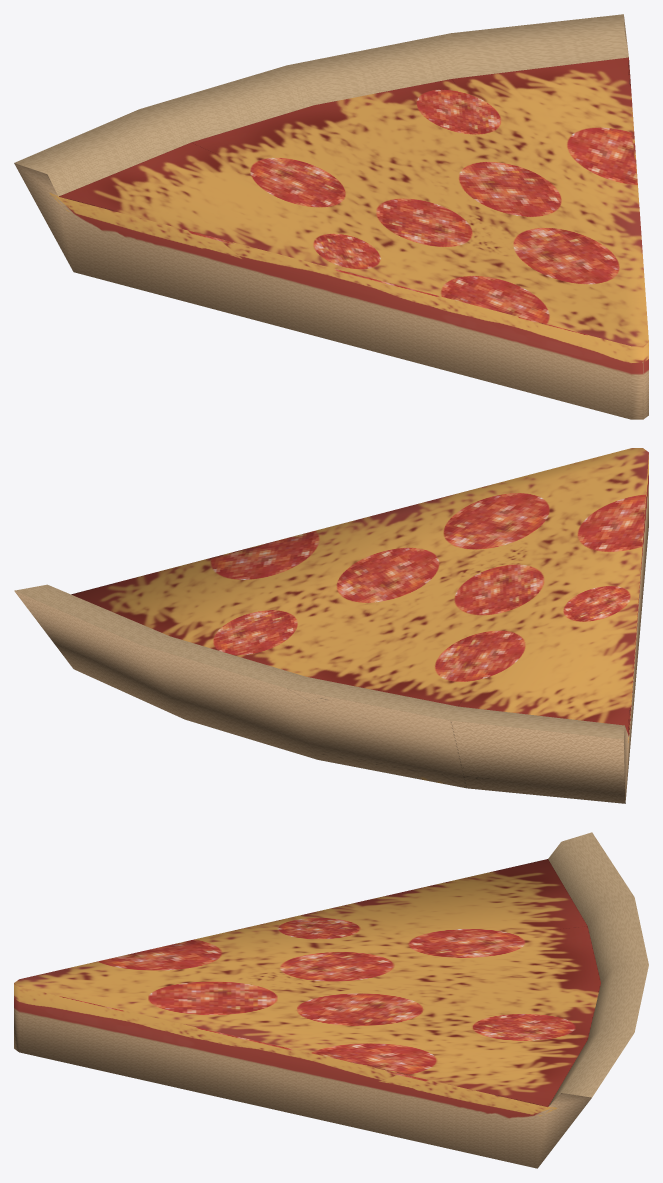
Rendered from WorldItem_PizzaNdujaSlice.fbx.
3 renders of one model, top to bottom at view 1: azimuth 30°, elevation 25°; view 2: azimuth 150°, elevation 25°; view 3: azimuth 270°, elevation 25°, orthographic. The views are drawn at different scales.
Visible parts, largest first — view 1: Pie_Lemonmeringue001; view 2: Pie_Lemonmeringue001; view 3: Pie_Lemonmeringue001.
Part boxes in pixels (bbox=[...]): Pie_Lemonmeringue001: bbox=[14, 14, 648, 419]; Pie_Lemonmeringue001: bbox=[14, 448, 648, 803]; Pie_Lemonmeringue001: bbox=[14, 832, 648, 1168].
Bounding box in the file's own units: 22.09 × 3.25 × 22.34.
